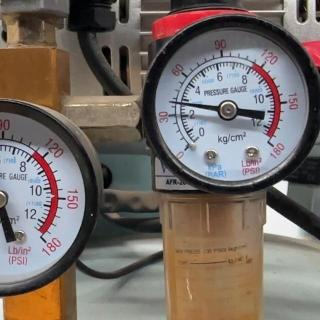gauge: (143, 8, 320, 196), (1, 94, 103, 306), (175, 133, 203, 163), (217, 99, 239, 121), (262, 134, 282, 154), (34, 230, 53, 250), (0, 188, 8, 209), (166, 97, 177, 107)
